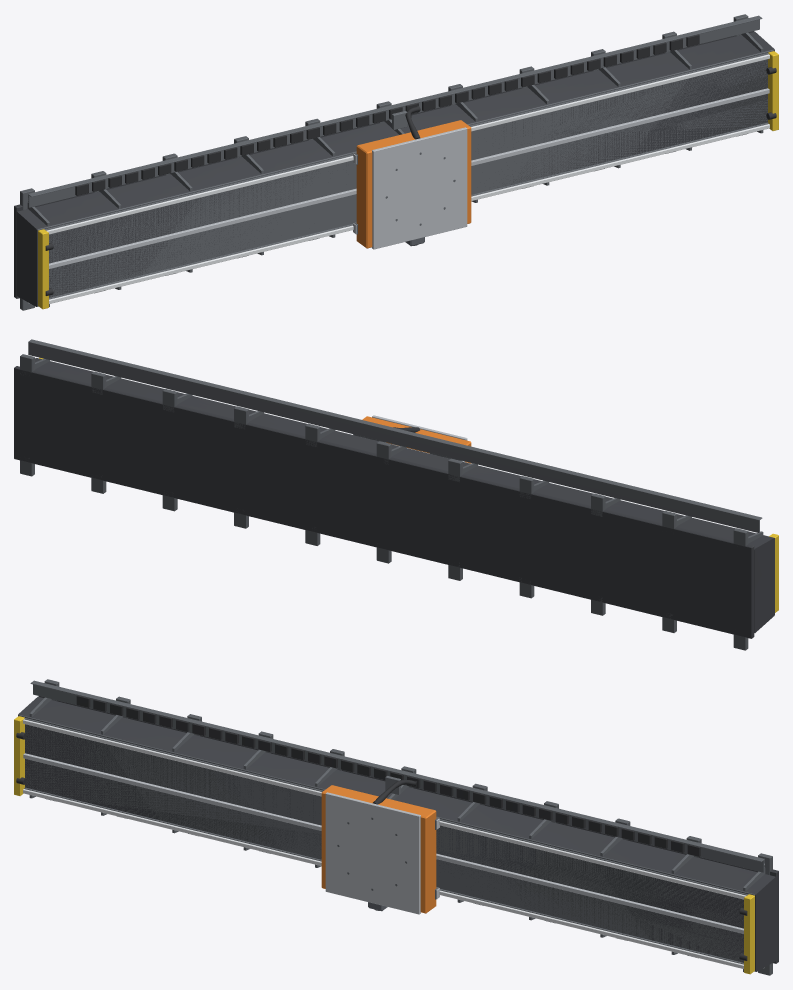
The model's file is rail.glb.
The picture shows the model from 3 angles, top to bottom: view 1: azimuth 30°, elevation 25°; view 2: azimuth 150°, elevation 25°; view 3: azimuth 330°, elevation 25°; orthographic projection.
Visible parts, largest first — view 1: static, carriage; view 2: static, carriage; view 3: static, carriage.
Boxes of the visible parts, x1,y1,x2,y2 form: static: (14,14,778,310); carriage: (353,105,471,249); static: (14,339,778,650); carriage: (353,415,471,463); static: (14,679,778,975); carriage: (321,776,439,914).
Size of the model in its own units: 8.43 by 1.36 by 0.751.
